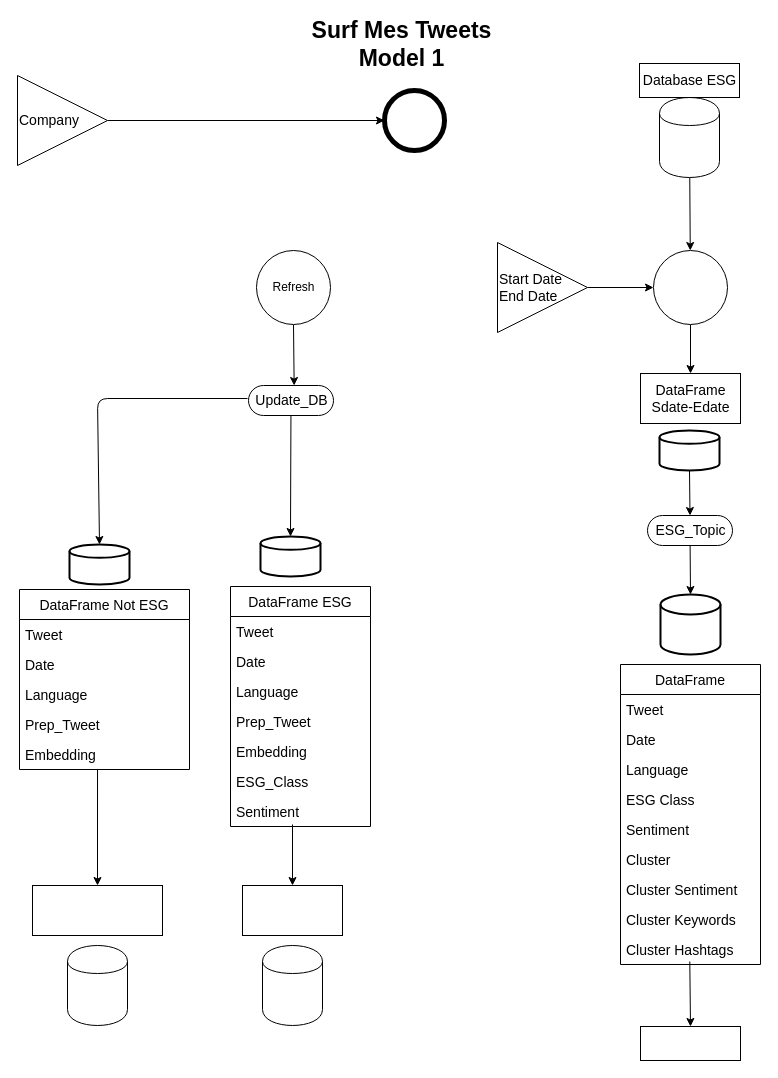
This 778x1078 diagram has some shape labels left out. Each missing label, with the centre of its shape:
"Save to Database ESG" goes at (292,910).
"Save to Database Not ESG" goes at (97,910).
"Send to Front" goes at (690,1043).
"SMT" goes at (414,120).
"Visualise" goes at (690,287).
